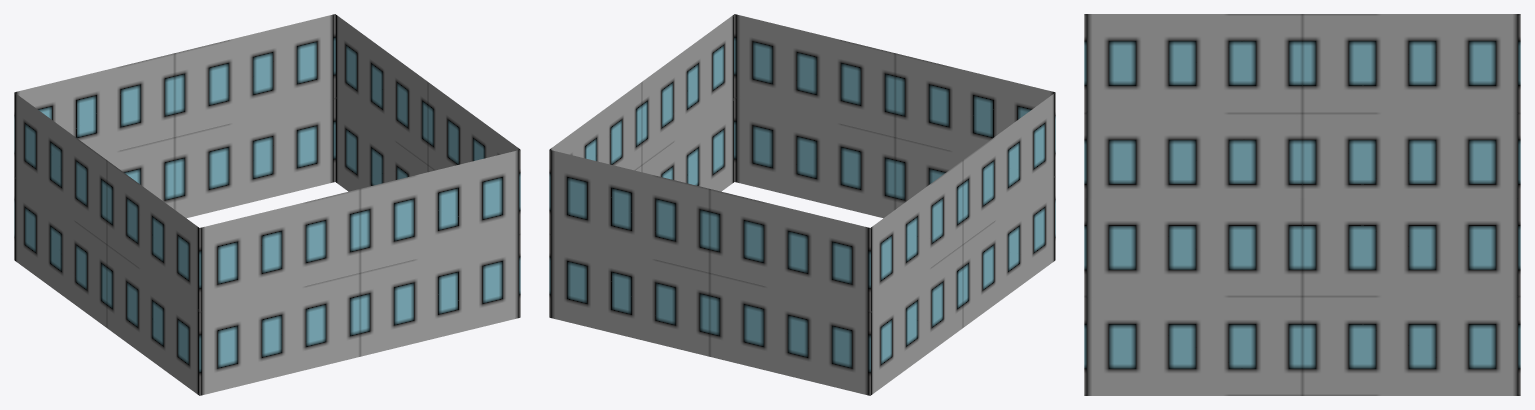
File: OfficeLayer.fbx
The picture shows the model from 3 angles, left to right: view 1: azimuth 30°, elevation 25°; view 2: azimuth 150°, elevation 25°; view 3: azimuth 270°, elevation 25°; orthographic projection. The views are drawn at different scales.
Parts seen in each view (by area): view 1: Cube.005, Cube.002, Cube.006, Cube.003, Cube.004, Cube.001, Cube.008, Cube.007; view 2: Cube.001, Cube.006, Cube.002, Cube.004, Cube.003, Cube.005, Cube.007, Cube.008; view 3: Cube.007, Cube.008, Cube.003, Cube.004.
Boxes of the visible parts, left/top/right/bottom form: Cube.005: left=199, top=189, right=360, bottom=395; Cube.002: left=174, top=14, right=335, bottom=218; Cube.006: left=360, top=149, right=520, bottom=356; Cube.003: left=14, top=92, right=106, bottom=327; Cube.004: left=107, top=160, right=199, bottom=395; Cube.001: left=15, top=53, right=174, bottom=209; Cube.008: left=335, top=14, right=427, bottom=191; Cube.007: left=428, top=82, right=519, bottom=172; Cube.001: left=709, top=189, right=870, bottom=395; Cube.006: left=734, top=14, right=895, bottom=218; Cube.002: left=549, top=149, right=709, bottom=356; Cube.004: left=963, top=92, right=1055, bottom=327; Cube.003: left=870, top=160, right=962, bottom=395; Cube.005: left=895, top=53, right=1054, bottom=209; Cube.007: left=642, top=14, right=734, bottom=191; Cube.008: left=550, top=82, right=641, bottom=172; Cube.007: left=1084, top=198, right=1302, bottom=395; Cube.008: left=1302, top=198, right=1520, bottom=395; Cube.003: left=1302, top=14, right=1520, bottom=198; Cube.004: left=1084, top=14, right=1302, bottom=198.
Size of the model in its own units: 200 by 100 by 200.
